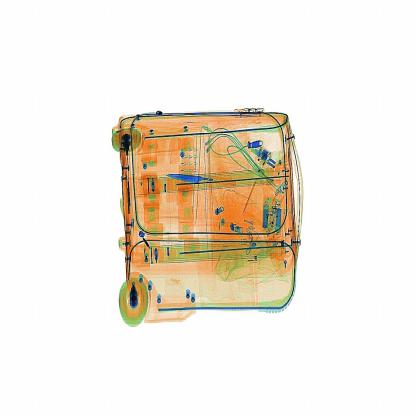wrench: (158, 162, 229, 196)
